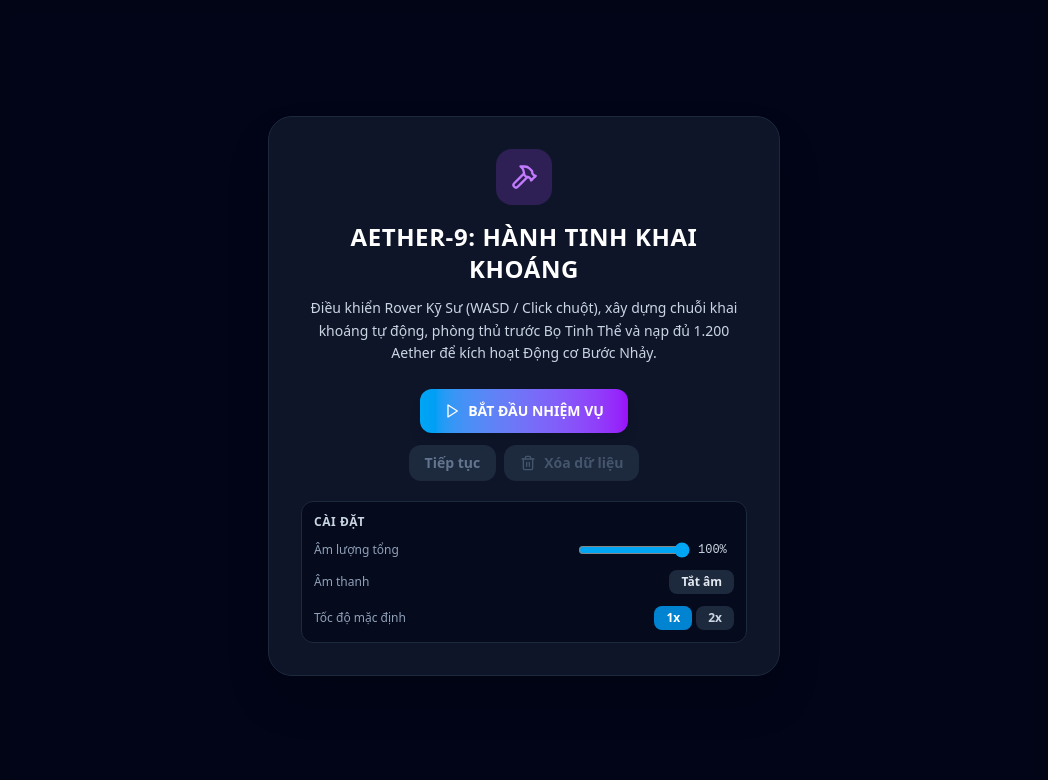
AetherGame: objective card reflects engine state › restart restores the objective card to the first milestone
Later steps or results of the test are not shown.
Click the button "BẮT ĐẦU NHIỆM VỤ" at (524, 411), box [420,389,628,433]
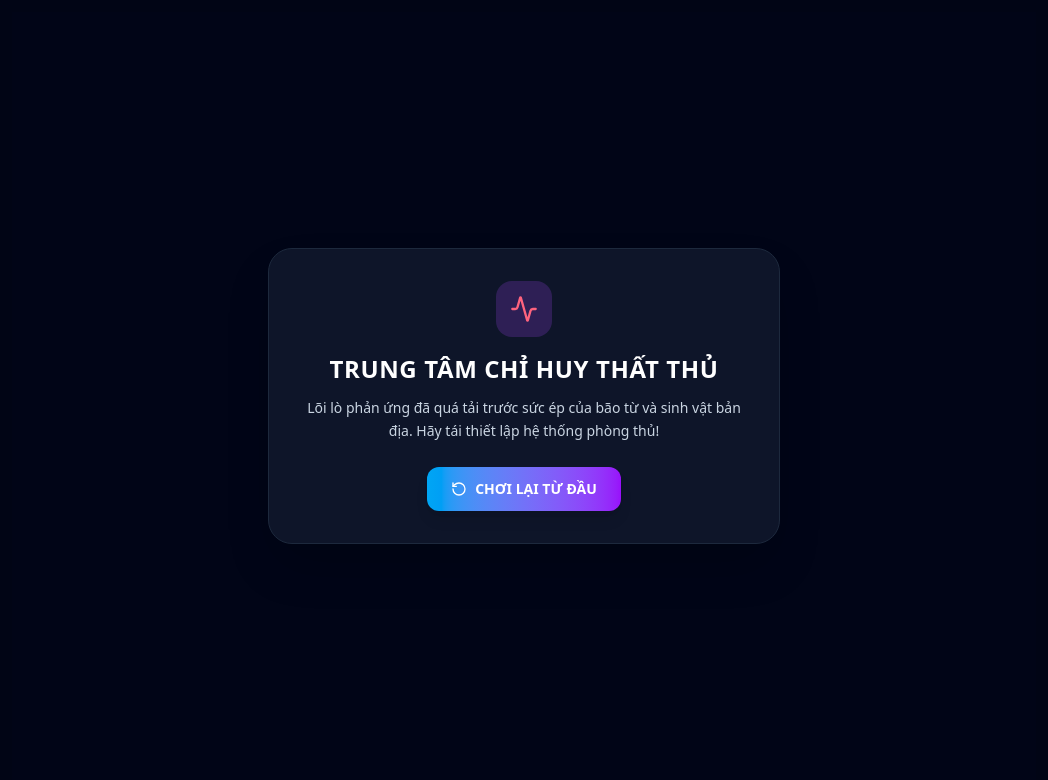
Click the button "CHƠI LẠI TỪ ĐẦU" at (524, 489), box [427,467,621,511]
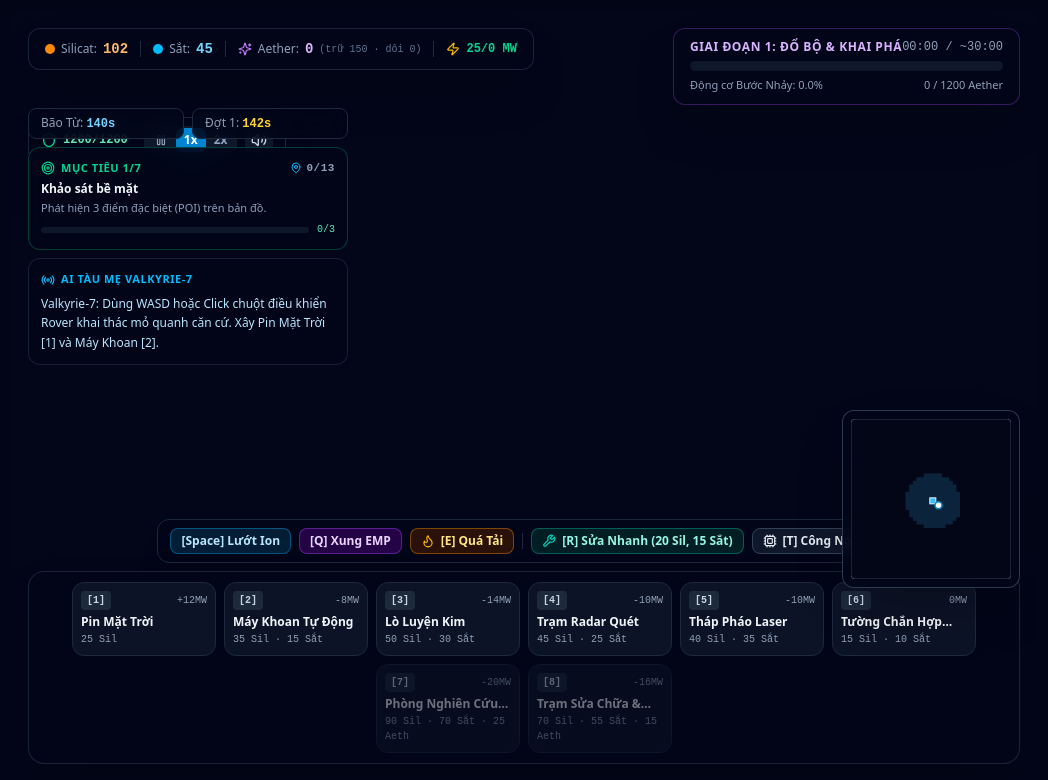
expect the text "MỤC TIÊU 1/7" is shown: met, box [41,160,141,176]
expect the text "Khảo sát bề mặt" is shown: met, box [41,180,138,196]
